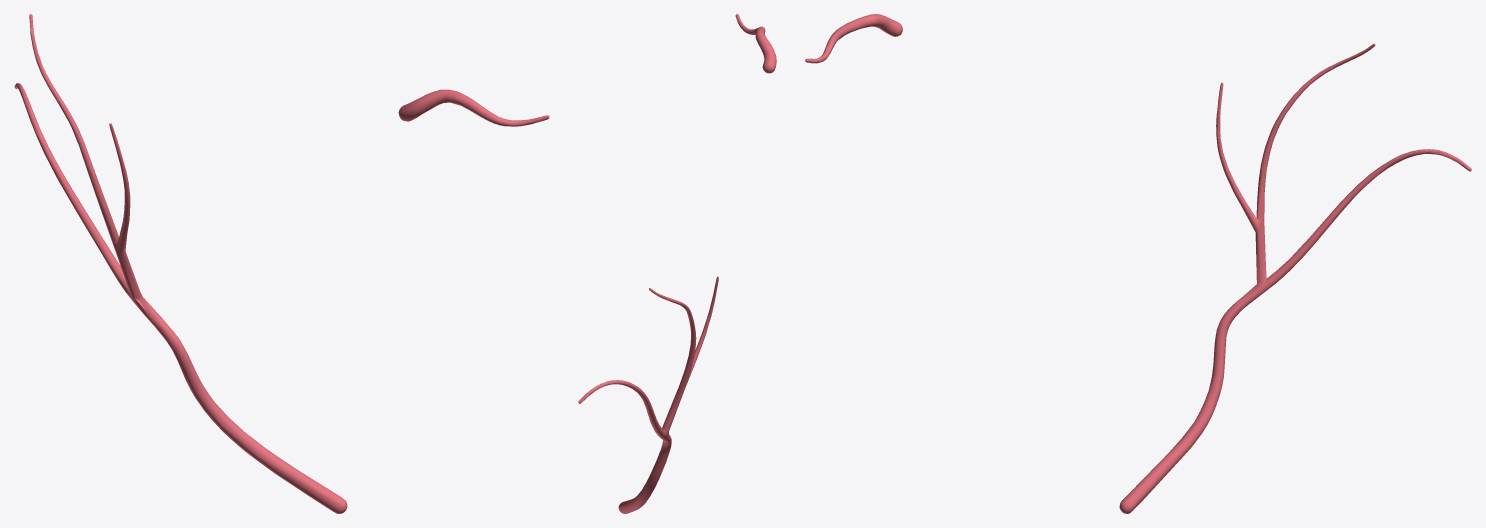
The model's file is fma49625_fj5160.glb.
3 renders of one model, left to right at view 1: azimuth 30°, elevation 25°; view 2: azimuth 150°, elevation 25°; view 3: azimuth 270°, elevation 25°, orthographic. The views are drawn at different scales.
Parts seen in each view (by area): view 1: FMA49625_FJ5160; view 2: FMA49625_FJ5160; view 3: FMA49625_FJ5160.
Part boxes in pixels (bbox=[...]): FMA49625_FJ5160: bbox=[14, 14, 549, 513]; FMA49625_FJ5160: bbox=[578, 14, 776, 513]; FMA49625_FJ5160: bbox=[805, 14, 1471, 513].
Bounding box in the file's own units: 0.0437 × 0.1026 × 0.1287.
